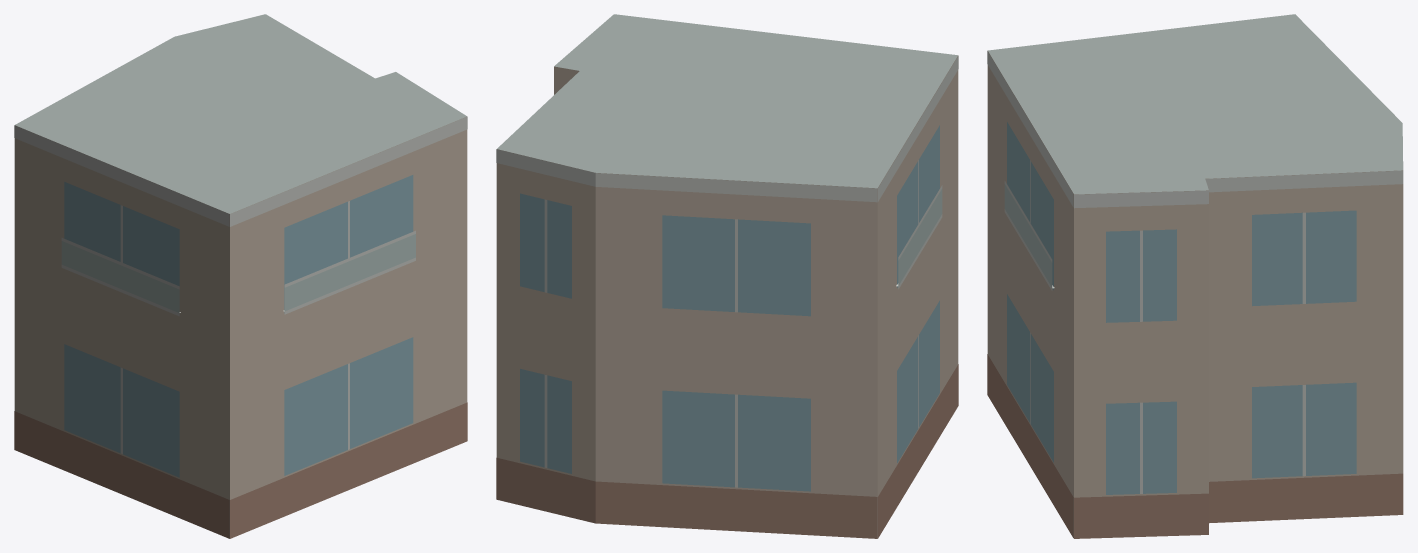
Rendered from survey-upis-32500299.glb.
The picture shows the model from 3 angles, left to right: view 1: azimuth 30°, elevation 25°; view 2: azimuth 150°, elevation 25°; view 3: azimuth 270°, elevation 25°; orthographic projection. The views are drawn at different scales.
Visible parts, largest first — view 1: survey-upis-32500299.tmp; view 2: survey-upis-32500299.tmp; view 3: survey-upis-32500299.tmp.
Part boxes in pixels (box(x1,y1,x2,y2)): survey-upis-32500299.tmp: box(14, 14, 467, 538); survey-upis-32500299.tmp: box(496, 14, 958, 538); survey-upis-32500299.tmp: box(987, 14, 1403, 538).
Bounding box in the file's own units: 6.86 × 6.1 × 6.68.
